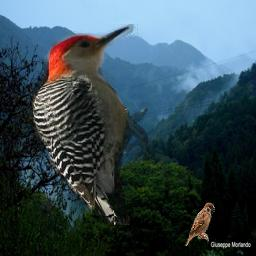Sparrow: (185, 202, 216, 246)
Woodpecker: (28, 25, 148, 226)
